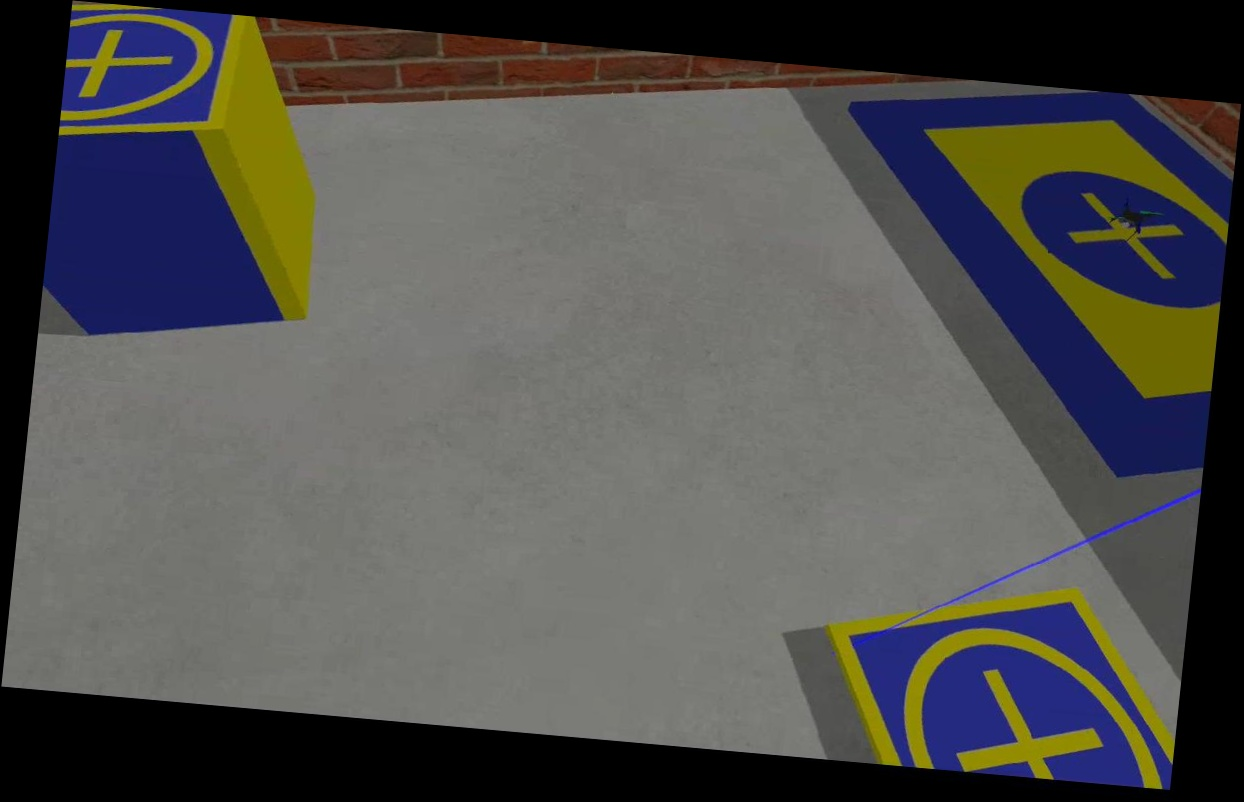large_base: (810, 69, 1244, 489)
small_base: (816, 566, 1190, 790), (58, 0, 243, 157)
